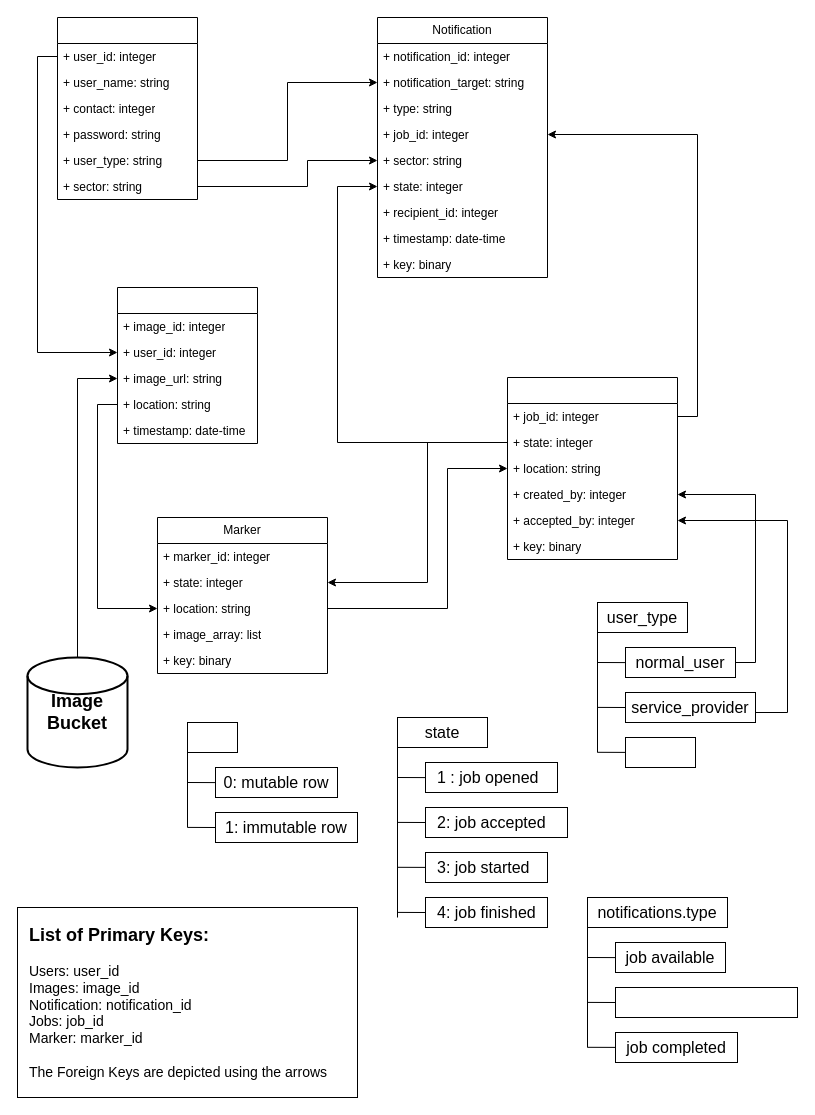
The diagram is 815 pixels wide and 1115 high, and some of its shapes have lost their labels. The box of each missing label's shape, as (x1, y1, x2, y2) in pixels:
admin: (624, 736, 696, 768)
Images: (116, 286, 258, 444)
job taken (by user xxx): (614, 986, 798, 1018)
Jobs: (506, 376, 678, 560)
key: (186, 722, 238, 752)
Users: (56, 16, 198, 200)
